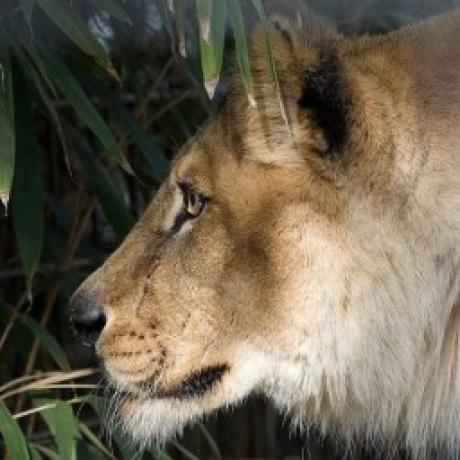Lion: (64, 1, 460, 460)
